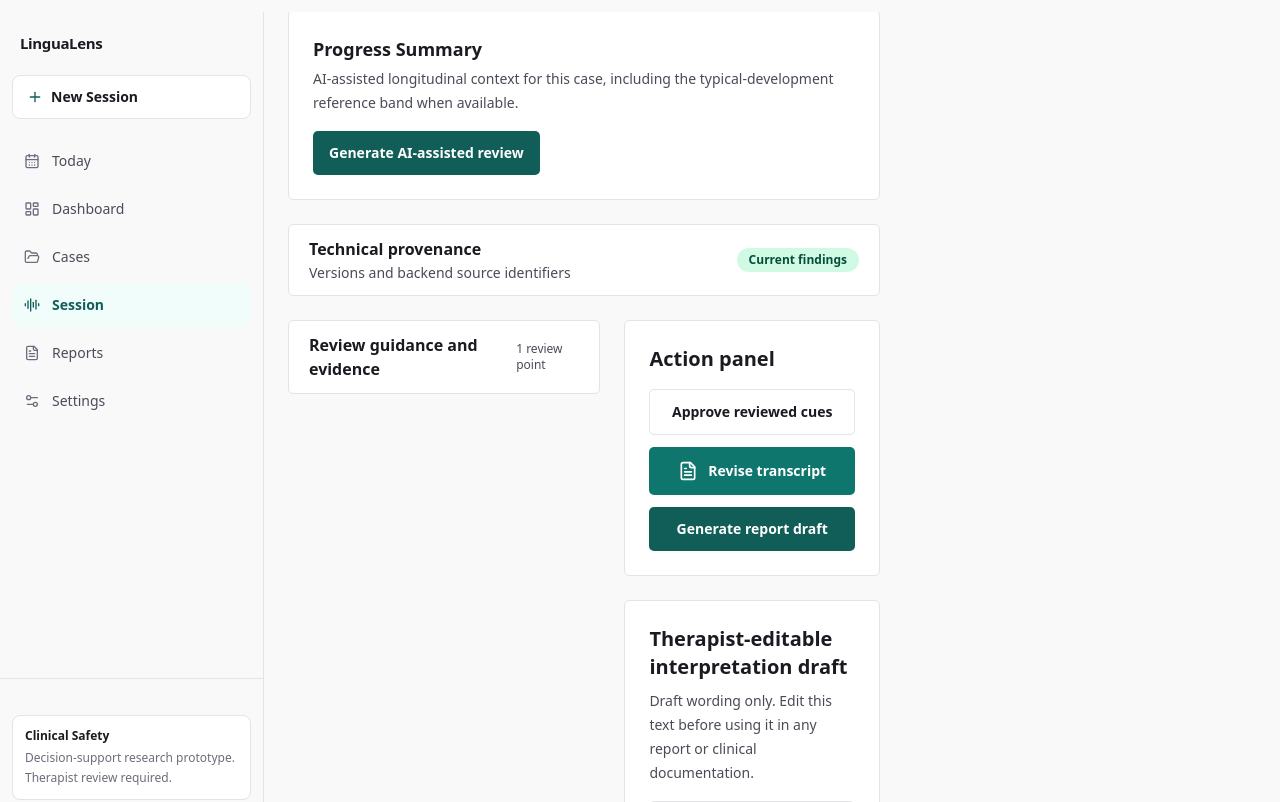
Test: lingualens pages › records the reviewed-cues acknowledgement on the backend and shows the recorded message
(page scrolled)
Click the button "Approve reviewed cues". click: (752, 412)
box: x1=649 y1=389 x2=855 y2=435
(page scrolled)
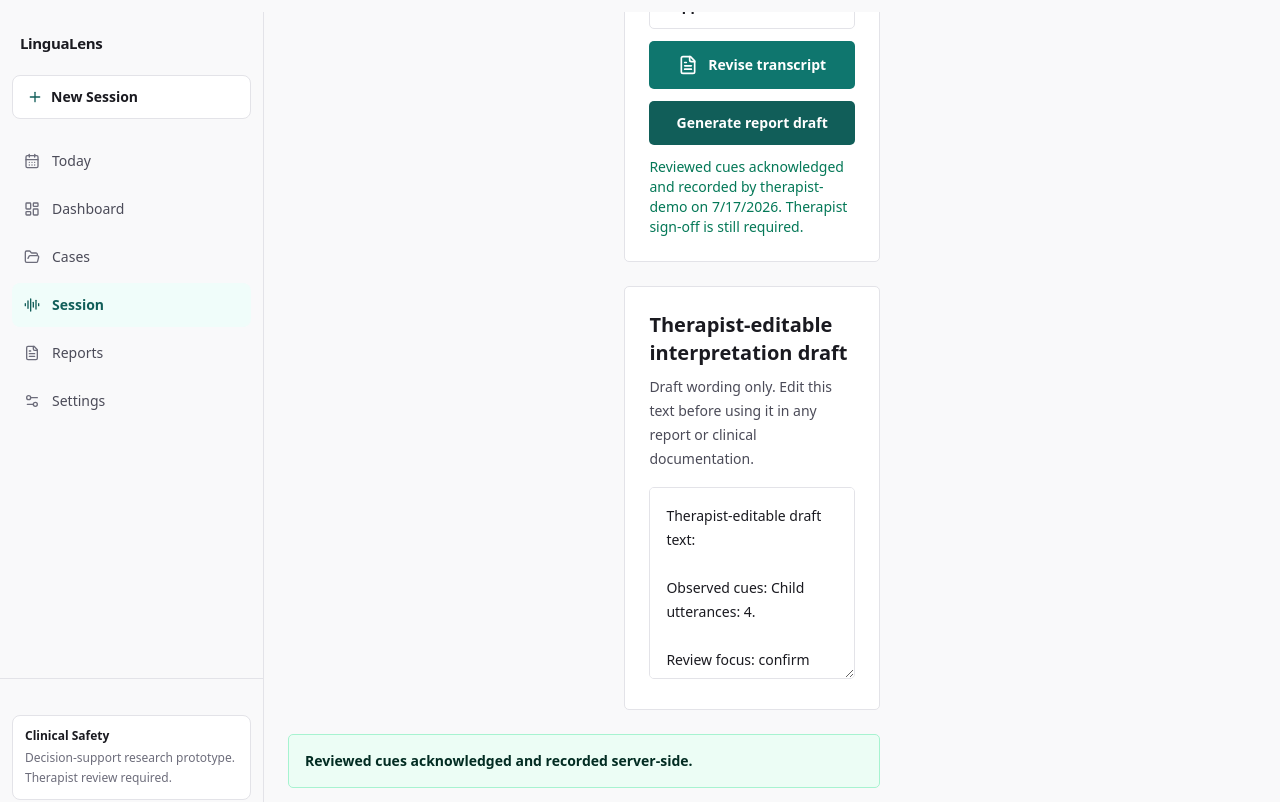
Check: the text "Reviewed cues acknowledged and recorded server-side." is shown, box x1=305 y1=751 x2=693 y2=770
